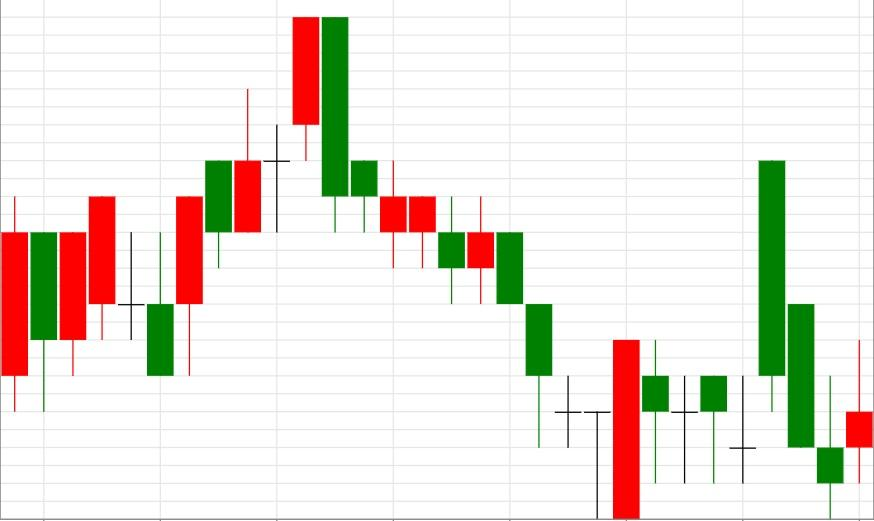bearish_engulfing_fall: (146, 16, 349, 377)
